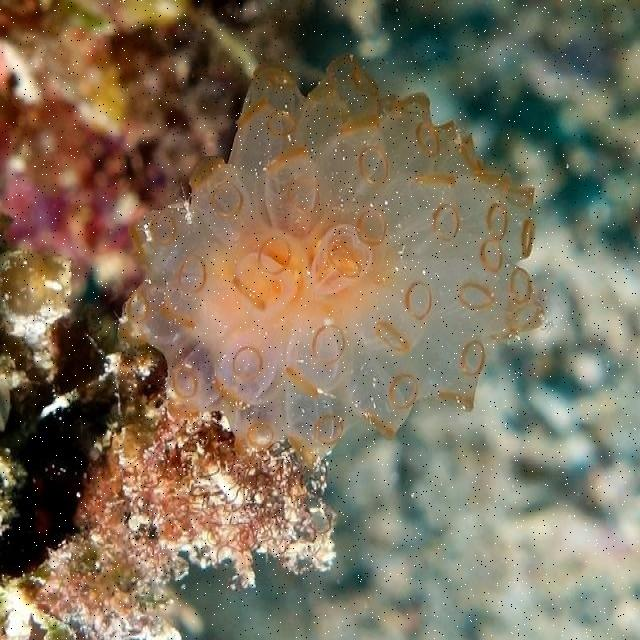aquatic plants: (123, 56, 546, 470)
reefs: (0, 247, 335, 639)
sea-floor: (0, 1, 295, 288)
